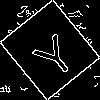Y: (24, 25, 80, 81)
